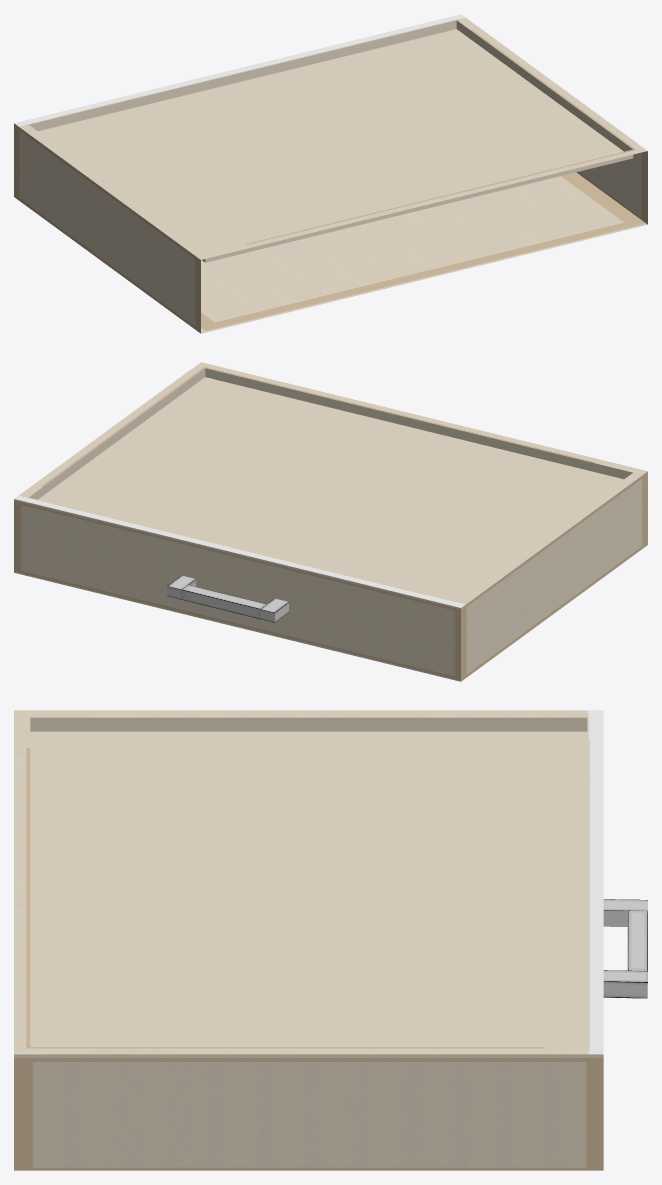
Rendered from Countertop_Kitchen_Drawers_Open_Drawer.fbx.
The picture shows the model from 3 angles, top to bottom: view 1: azimuth 30°, elevation 25°; view 2: azimuth 150°, elevation 25°; view 3: azimuth 270°, elevation 25°; orthographic projection. The views are drawn at different scales.
Parts seen in each view (by area): view 1: Drawer11; view 2: Drawer11; view 3: Drawer11.
Boxes of the visible parts, x1,y1,x2,y2 form: Drawer11: (14,14,647,333); Drawer11: (14,362,647,681); Drawer11: (14,710,647,1170).
Bounding box in the file's own units: 62.64 × 9.89 × 48.79.
